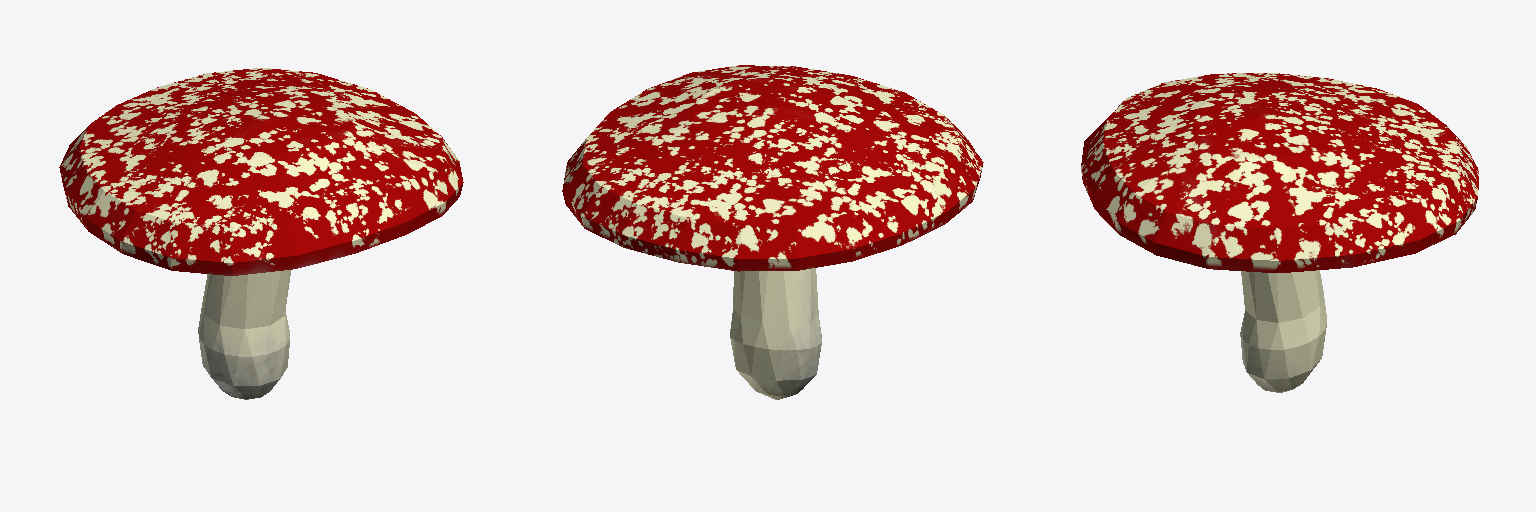
The picture shows the model from 3 angles: view 1: azimuth 30°, elevation 25°; view 2: azimuth 150°, elevation 25°; view 3: azimuth 270°, elevation 25°; orthographic projection.
Visible parts, largest first — view 1: Mushroom_1; view 2: Mushroom_1; view 3: Mushroom_1.
Boxes of the visible parts, x1=… form: Mushroom_1: x1=59, y1=68, x2=463, y2=399; Mushroom_1: x1=562, y1=65, x2=983, y2=399; Mushroom_1: x1=1081, y1=73, x2=1478, y2=392.
Bounding box in the file's own units: 2.61 × 2.03 × 2.58.
1 materials, 1 textured.